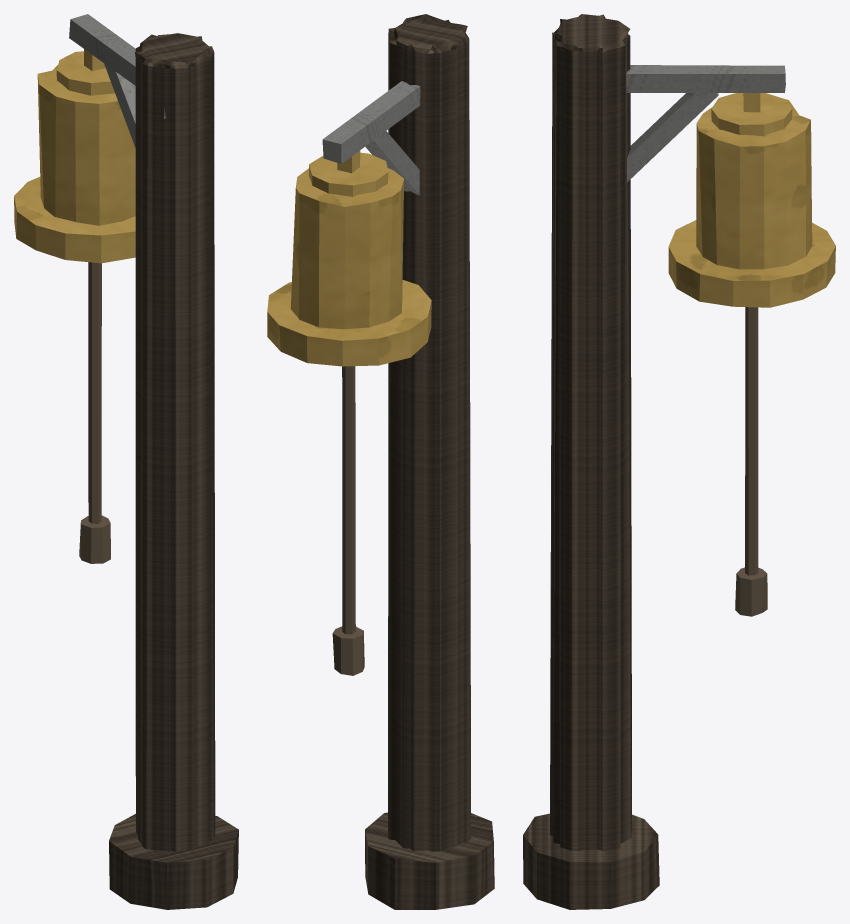
The model's file is labyrinth_bell.glb.
The picture shows the model from 3 angles, left to right: view 1: azimuth 30°, elevation 25°; view 2: azimuth 150°, elevation 25°; view 3: azimuth 270°, elevation 25°; orthographic projection. The views are drawn at different scales.
Visible parts, largest first — view 1: LabyrinthBell, Bell; view 2: LabyrinthBell, Bell; view 3: LabyrinthBell, Bell.
Part boxes in pixels (bbox=[...]): LabyrinthBell: bbox=[69, 14, 238, 909]; Bell: bbox=[14, 49, 135, 263]; LabyrinthBell: bbox=[322, 14, 494, 909]; Bell: bbox=[267, 150, 431, 366]; LabyrinthBell: bbox=[523, 14, 785, 909]; Bell: bbox=[668, 93, 835, 307].
Bounding box in the file's own units: 0.3414 × 1.97 × 0.6517.
4 materials, 3 textured.
